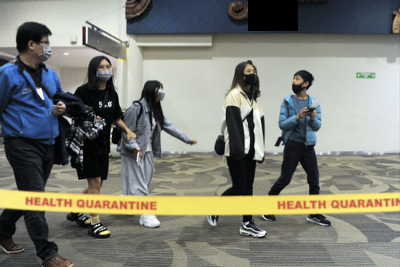mask_weared_incorrect: (292, 76, 305, 94)
with_mask: (33, 36, 52, 63), (96, 63, 114, 83), (243, 68, 258, 87), (156, 85, 166, 104)
